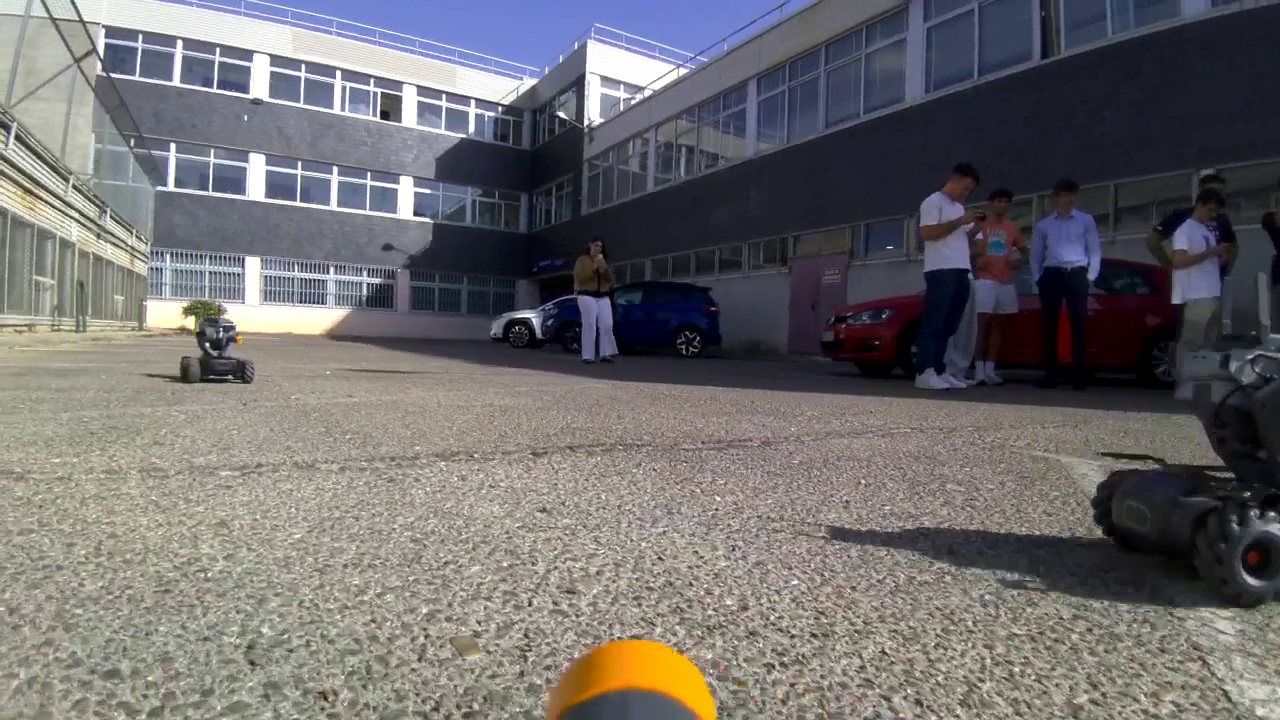robot: (1092, 334, 1280, 605), (169, 303, 263, 389)
